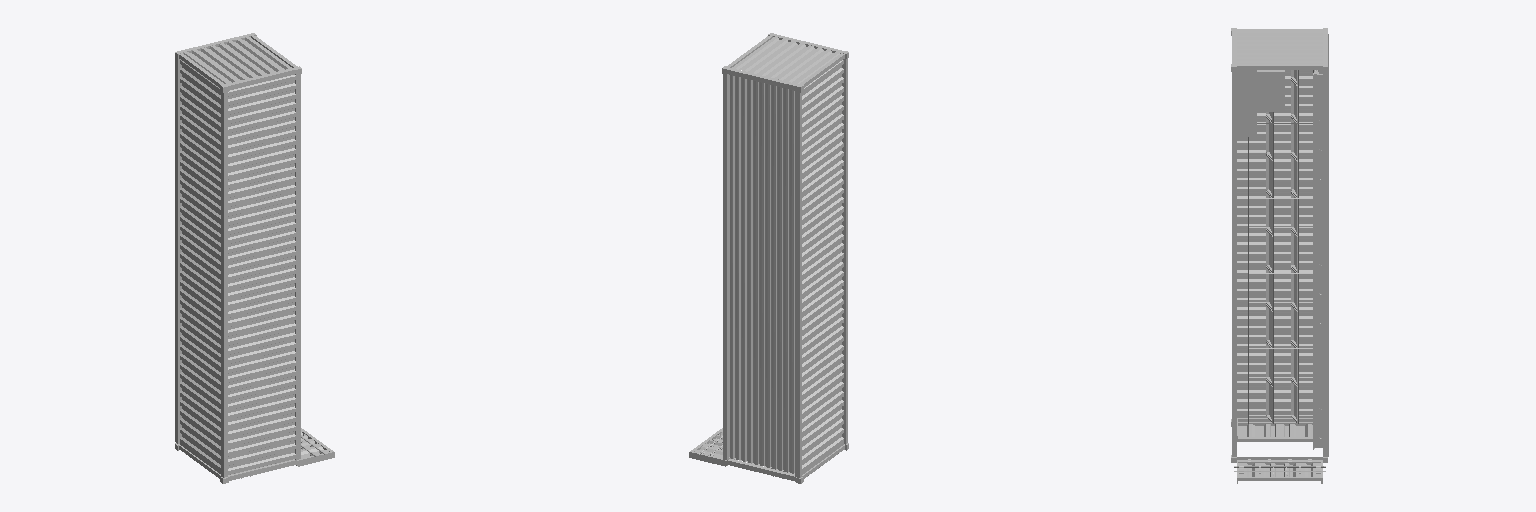
File: ShippingContainer_Textured.obj
3 views of the same model, side by side, from view 1: azimuth 30°, elevation 25°; view 2: azimuth 150°, elevation 25°; view 3: azimuth 270°, elevation 25° (orthographic).
Parts seen in each view (by area): view 1: Roof, Wall_Left, Frame_Container, Wall_Back, Door_Right; view 2: Floor, Wall_Left, Frame_Container, Wall_Back, Door_Right; view 3: Wall_Left, Frame_Container, Bins, Conveyor, Wall_Back, Filler, Door_Right, Door_Left, Frame_Bins.
Boxes of the visible parts, <box> form: Roof: <box>228,75,295,474</box>; Wall_Left: <box>180,59,220,471</box>; Frame_Container: <box>175,33,301,483</box>; Wall_Back: <box>184,37,291,83</box>; Door_Right: <box>298,428,334,466</box>; Floor: <box>729,75,794,473</box>; Wall_Left: <box>802,60,843,472</box>; Frame_Container: <box>722,33,848,483</box>; Wall_Back: <box>732,37,839,83</box>; Door_Right: <box>689,428,734,466</box>; Wall_Left: <box>1237,70,1312,421</box>; Frame_Container: <box>1231,28,1328,462</box>; Bins: <box>1266,70,1297,422</box>; Conveyor: <box>1313,70,1322,449</box>; Wall_Back: <box>1237,31,1322,63</box>; Filler: <box>1237,70,1284,136</box>; Door_Right: <box>1234,459,1325,483</box>; Door_Left: <box>1237,418,1312,441</box>; Frame_Bins: <box>1248,70,1312,423</box>.
Bounding box in the file's own units: 3.7 × 12.38 × 2.73.